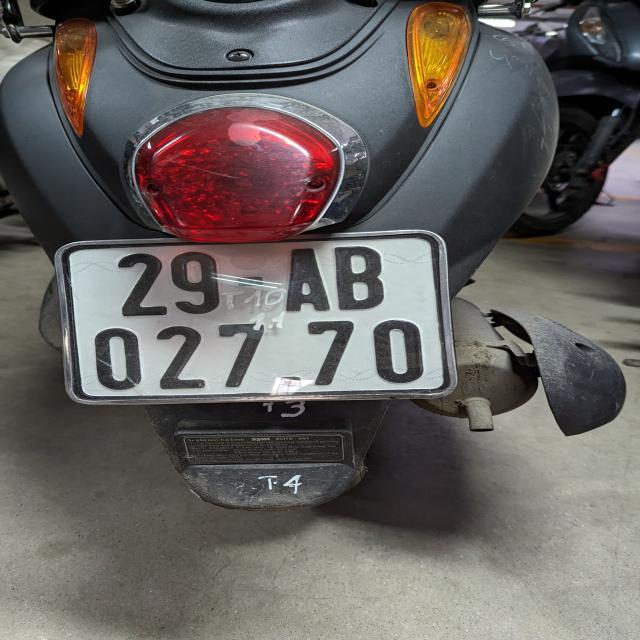license: (53, 230, 458, 406)
